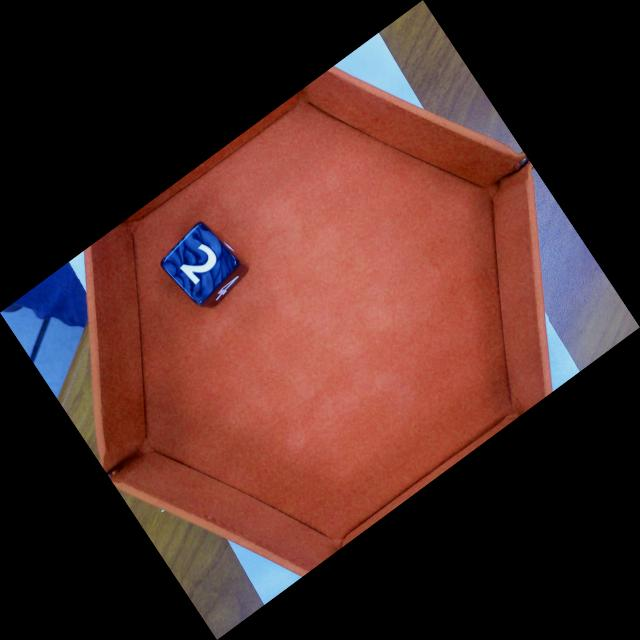dice: (157, 221, 242, 309)
